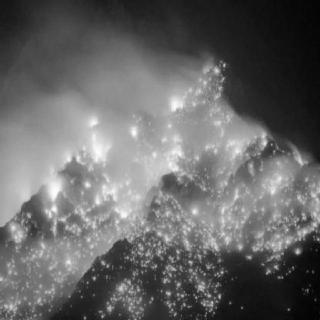Fire: (15, 32, 317, 314)
